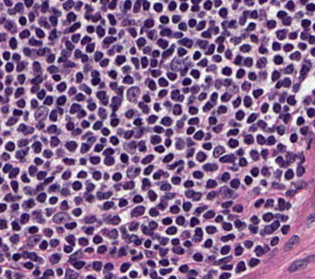nucleus: (127, 87, 139, 101), (35, 107, 47, 120), (162, 46, 173, 57), (256, 57, 266, 68), (213, 146, 224, 156), (179, 38, 191, 47), (112, 97, 120, 110), (139, 102, 148, 113), (276, 30, 286, 39), (157, 39, 167, 48), (70, 104, 80, 113), (66, 141, 76, 150), (29, 38, 41, 45), (32, 75, 41, 84), (81, 85, 90, 94), (203, 102, 212, 111), (247, 113, 256, 122), (194, 130, 203, 139), (206, 44, 214, 54), (300, 65, 308, 75), (98, 108, 106, 118), (161, 117, 171, 125), (176, 139, 184, 149), (33, 142, 41, 152), (104, 37, 115, 44), (36, 28, 44, 37), (81, 36, 90, 44), (65, 41, 73, 50), (274, 55, 282, 64), (116, 56, 125, 64), (222, 67, 231, 75), (242, 81, 250, 90), (57, 82, 65, 91), (253, 89, 262, 97), (173, 105, 181, 114), (213, 124, 222, 132), (151, 135, 160, 143), (244, 135, 253, 143), (51, 137, 59, 146), (229, 139, 238, 147), (81, 143, 89, 152), (290, 52, 300, 59), (33, 62, 40, 72), (123, 76, 133, 83), (244, 96, 251, 106), (49, 110, 56, 120), (138, 141, 145, 151), (103, 148, 113, 155), (71, 34, 79, 42), (137, 38, 145, 46), (272, 42, 280, 50), (86, 44, 94, 52), (94, 52, 102, 60), (236, 69, 244, 77), (191, 70, 199, 78), (159, 78, 167, 86), (97, 91, 105, 99), (221, 93, 229, 101), (44, 96, 52, 104), (57, 96, 65, 104), (287, 96, 295, 104), (148, 115, 156, 123), (110, 118, 118, 126), (93, 121, 101, 129), (267, 136, 275, 144), (49, 30, 56, 39), (272, 71, 279, 80), (148, 80, 155, 89), (171, 90, 178, 99), (233, 97, 240, 106), (261, 103, 268, 112), (273, 103, 280, 112), (136, 128, 143, 137), (257, 135, 264, 144), (160, 29, 170, 35), (240, 45, 250, 51), (141, 57, 147, 67), (132, 58, 138, 68), (76, 72, 82, 82), (188, 118, 198, 124), (228, 129, 238, 135), (199, 41, 207, 48), (284, 44, 292, 51), (178, 48, 186, 55), (193, 51, 200, 59), (47, 54, 54, 62), (234, 56, 241, 64), (245, 58, 252, 66), (100, 59, 108, 66), (198, 59, 206, 66), (285, 65, 293, 72), (182, 78, 190, 85), (283, 78, 290, 86), (116, 87, 123, 95), (37, 90, 44, 98), (75, 93, 83, 100), (218, 106, 226, 113), (189, 107, 197, 114), (307, 108, 314, 116), (236, 111, 243, 119), (282, 114, 289, 122), (257, 120, 265, 127), (66, 122, 73, 130), (48, 125, 56, 132), (277, 126, 284, 134), (125, 130, 132, 138), (290, 134, 297, 142), (110, 137, 118, 144), (231, 37, 240, 43), (48, 66, 57, 72), (151, 70, 160, 76), (167, 73, 176, 79), (211, 93, 217, 102), (154, 126, 163, 132), (155, 146, 164, 152), (301, 32, 308, 39), (109, 71, 116, 78), (249, 72, 256, 79), (92, 77, 99, 84), (31, 85, 38, 92), (191, 86, 198, 93), (159, 90, 166, 97), (199, 93, 206, 100), (143, 95, 150, 102), (88, 103, 95, 110), (78, 110, 85, 117), (126, 110, 133, 117), (209, 117, 216, 124), (134, 118, 141, 125), (176, 120, 183, 127), (187, 127, 194, 134), (300, 127, 307, 134), (95, 144, 102, 151), (202, 31, 210, 37), (216, 37, 224, 43), (298, 43, 306, 49), (37, 49, 45, 55), (58, 56, 66, 62), (31, 99, 37, 107), (72, 129, 80, 135), (187, 138, 193, 146), (203, 143, 211, 149), (280, 93, 285, 102), (147, 31, 153, 38), (289, 32, 296, 38), (250, 35, 257, 41), (217, 44, 223, 51), (143, 47, 150, 53), (259, 47, 266, 53), (75, 50, 81, 57), (213, 55, 220, 61), (151, 59, 157, 66), (122, 66, 129, 72), (91, 71, 98, 77), (110, 82, 116, 89), (293, 84, 299, 91), (69, 87, 75, 94), (297, 117, 303, 124), (102, 128, 109, 134), (277, 144, 284, 150), (187, 149, 193, 156), (174, 32, 182, 37), (225, 50, 230, 58), (64, 62, 74, 66), (207, 65, 215, 70), (153, 50, 159, 56), (224, 79, 230, 85), (276, 81, 282, 87), (82, 121, 88, 127), (37, 122, 43, 128), (166, 129, 172, 135), (309, 36, 314, 43), (62, 51, 69, 56), (181, 67, 186, 74), (53, 75, 60, 80), (215, 80, 220, 87), (304, 97, 309, 104), (154, 103, 159, 110), (165, 139, 170, 146), (82, 55, 87, 61), (46, 84, 51, 90), (250, 125, 256, 130), (205, 133, 210, 139), (88, 137, 94, 142), (130, 142, 135, 148), (130, 48, 135, 53), (261, 72, 266, 77), (178, 95, 183, 100), (102, 99, 107, 104), (206, 77, 210, 83), (311, 48, 314, 55), (117, 46, 121, 51), (108, 50, 113, 54), (183, 88, 188, 92), (165, 102, 170, 106), (58, 108, 62, 113), (100, 138, 105, 142), (119, 31, 122, 36), (224, 32, 228, 35), (284, 106, 287, 110)
